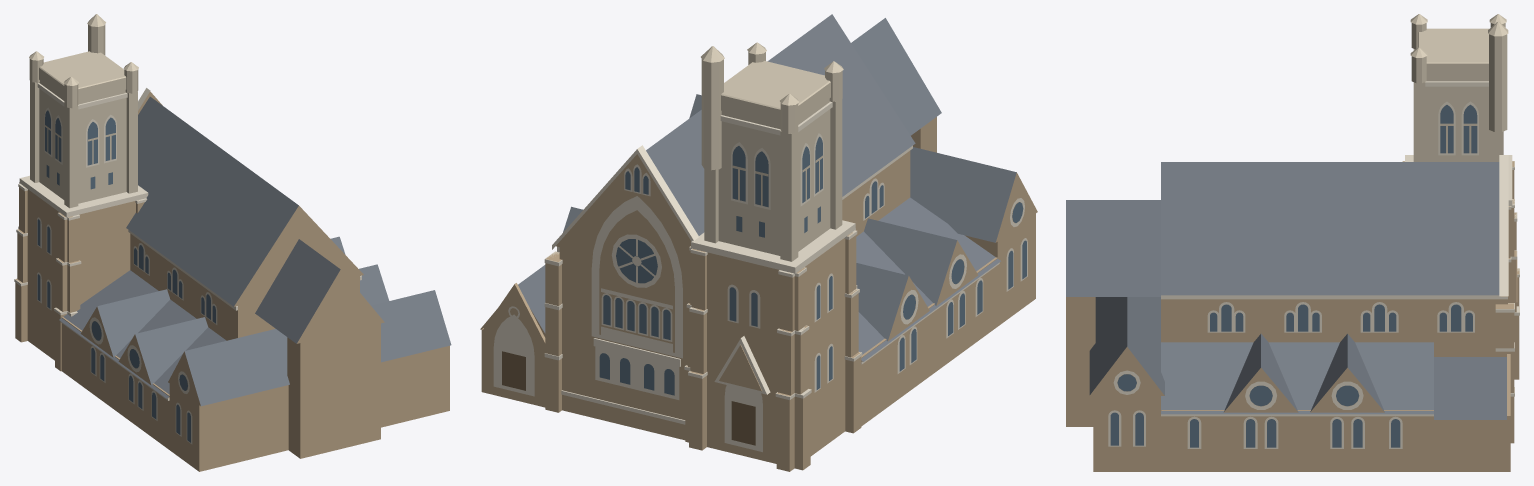
Rendered from nash-christ-church-cathedral.glb.
3 views of the same model, side by side, from view 1: azimuth 30°, elevation 25°; view 2: azimuth 150°, elevation 25°; view 3: azimuth 270°, elevation 25° (orthographic). The views are drawn at different scales.
Visible parts, largest first — view 1: Christ Church Cathedral; view 2: Christ Church Cathedral; view 3: Christ Church Cathedral.
Part boxes in pixels (left/top/right/bottom): Christ Church Cathedral: left=14, top=14, right=451, bottom=471; Christ Church Cathedral: left=480, top=14, right=1037, bottom=471; Christ Church Cathedral: left=1066, top=14, right=1519, bottom=471.
Bounding box in the file's own units: 27.3 × 31.5 × 36.76.
